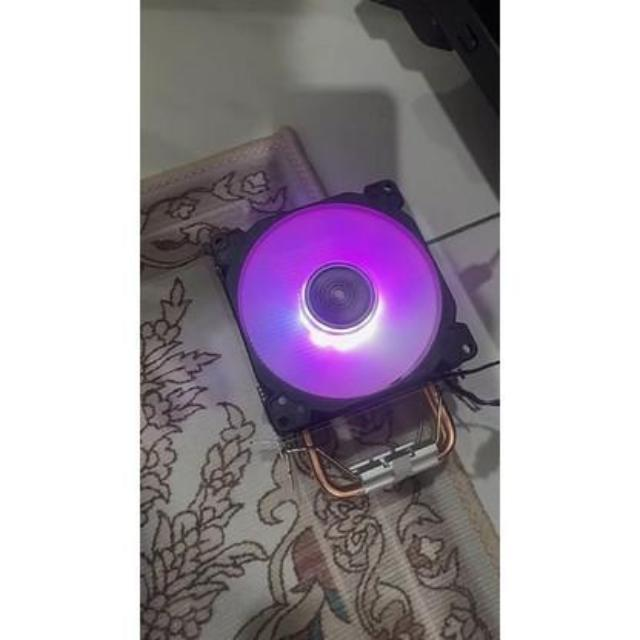CPU_Fan: (220, 184, 472, 498)
